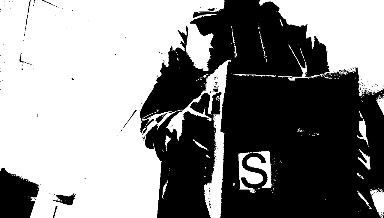S: (237, 151, 270, 188)
